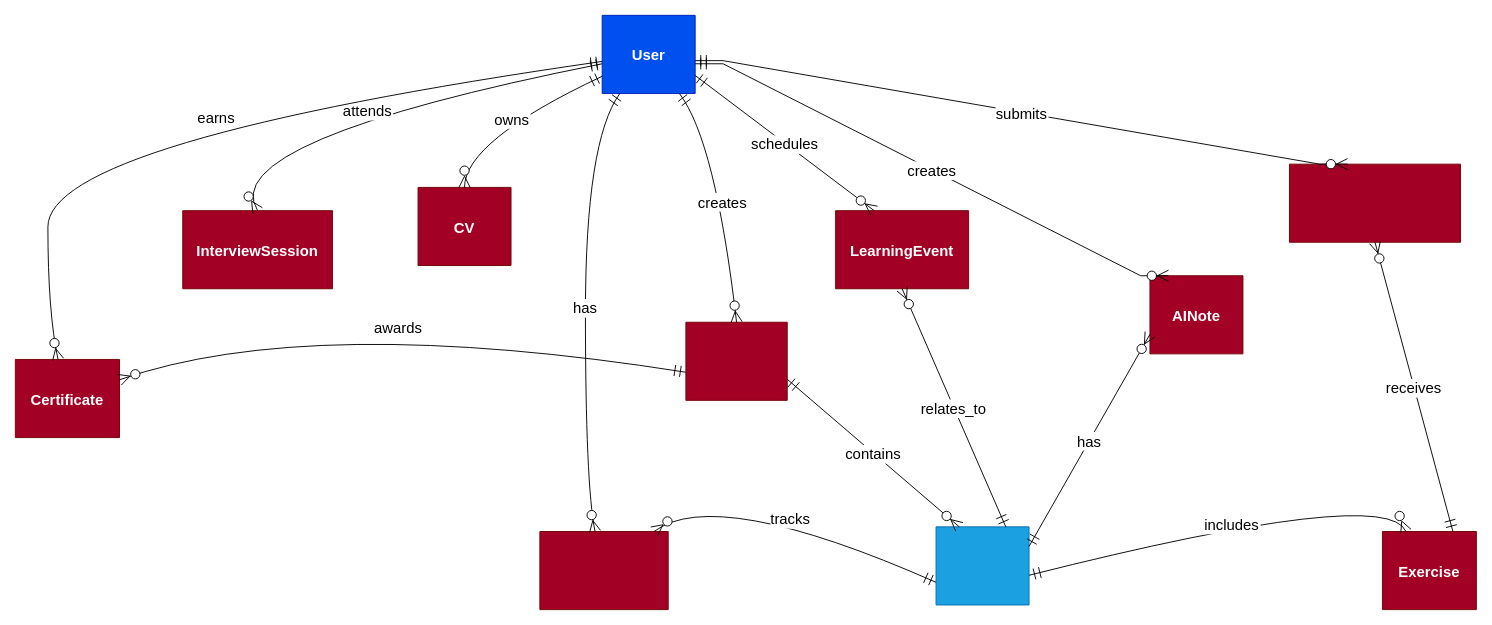
This 1492x625 diagram has some shape labels left out. Each missing label, with the centre of its shape:
ExerciseSubmission: pixel 1375 202
Module: pixel 982 565
Roadmap: pixel 736 360
UserProgress: pixel 603 570
